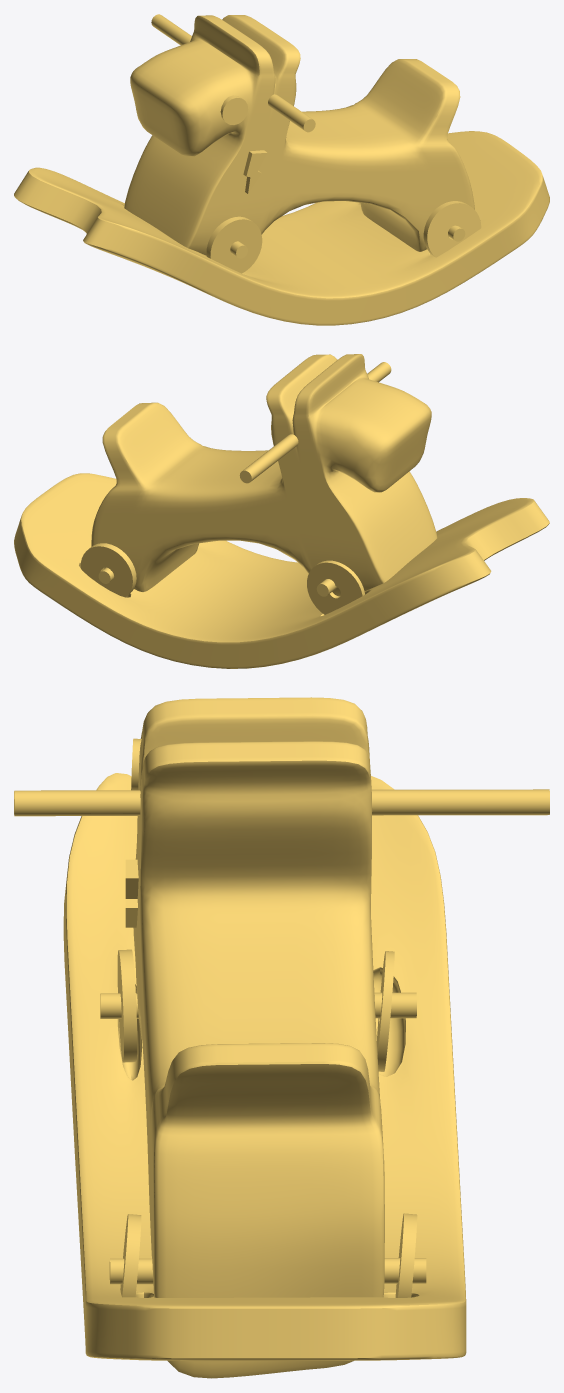
File: 儿童玩具木马.fbx
3 renders of one model, top to bottom at view 1: azimuth 30°, elevation 25°; view 2: azimuth 150°, elevation 25°; view 3: azimuth 270°, elevation 25°, orthographic. The views are drawn at different scales.
Parts seen in each view (by area): view 1: 立方体_1, 立方体, 管道_3, 管道, 圆柱_1, 圆柱, 挤压; view 2: 立方体_1, 立方体, 管道_2, 管道_1, 圆柱_1; view 3: 立方体_1, 立方体, 圆柱_1, 管道_3, 圆柱_2, 圆柱_3, 管道_2, 管道_1, 管道, 挤压.
Boxes of the visible parts, x1,y1,x2,y2 form: 立方体_1: [124, 15, 474, 255]; 立方体: [14, 131, 549, 325]; 管道_3: [206, 216, 262, 273]; 管道: [423, 201, 481, 257]; 圆柱_1: [151, 14, 315, 132]; 圆柱: [220, 95, 248, 124]; 挤压: [243, 150, 267, 193]; 立方体_1: [91, 354, 437, 596]; 立方体: [14, 473, 549, 668]; 管道_2: [307, 560, 364, 614]; 管道_1: [80, 543, 136, 597]; 圆柱_1: [239, 362, 391, 483]; 立方体_1: [133, 697, 384, 1378]; 立方体: [63, 773, 466, 1360]; 圆柱_1: [14, 789, 549, 816]; 管道_3: [117, 949, 137, 1062]; 圆柱_2: [109, 1258, 426, 1284]; 圆柱_3: [100, 992, 416, 1018]; 管道_2: [377, 951, 394, 1071]; 管道_1: [395, 1213, 417, 1297]; 管道: [120, 1214, 141, 1297]; 挤压: [125, 859, 138, 927].
Size of the model in its own units: 241 by 134 by 127.
